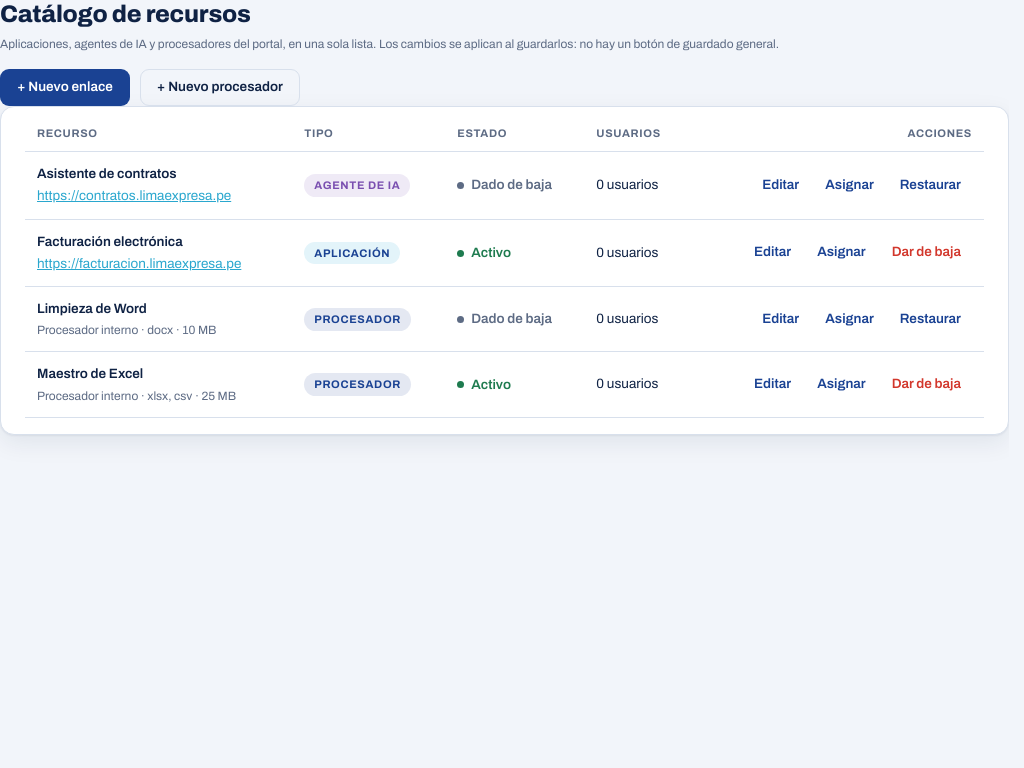
it: <CatalogoAdmin /> › edita un enlace contra su propia API, con la fila ya cargada
Click the button with aria-label "editar facturación electrónica". click: (773, 253)
box: [743,234,802,271]
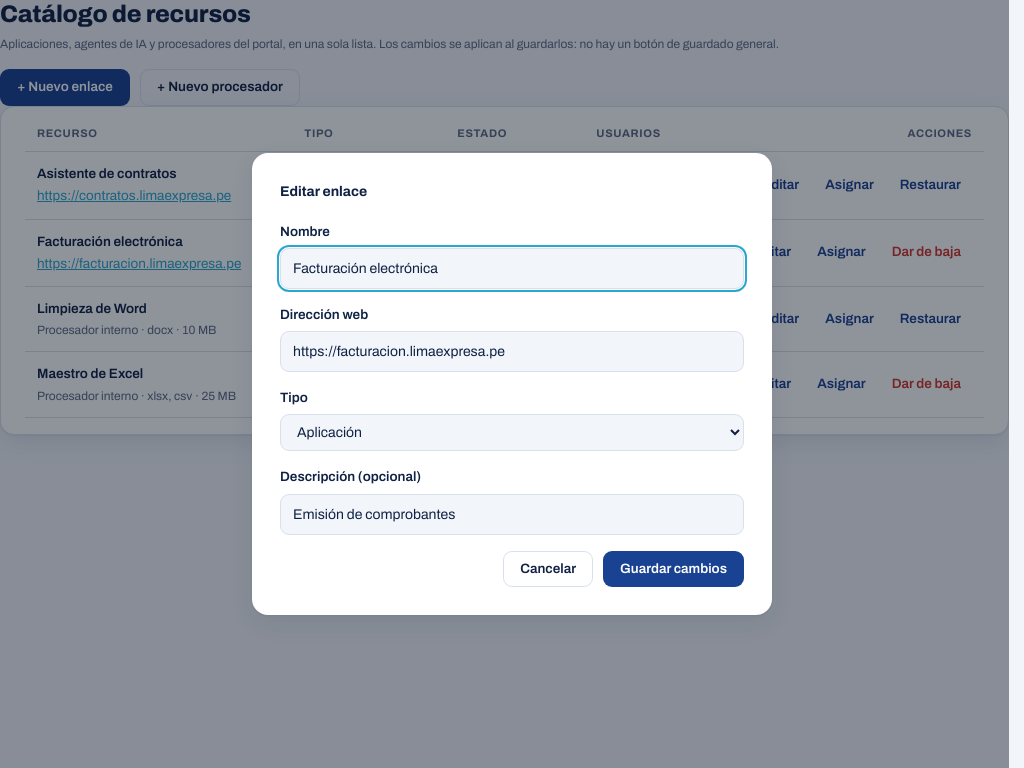
Expected: the field labelled "Nombre" holds "Facturación electrónica"
Replace the text in the field labelled "Nombre" with "Facturación". click: (512, 268)
box: [280,248,744,289]
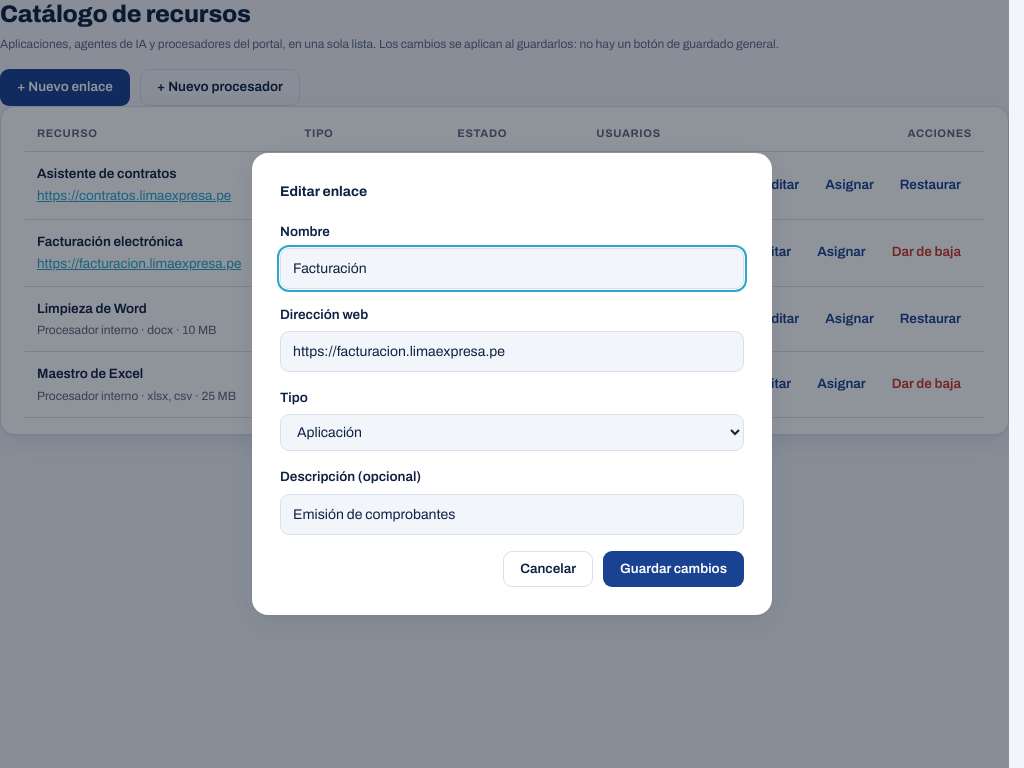
Click the button "Guardar cambios". click: (674, 569)
box: [603,551,744,588]
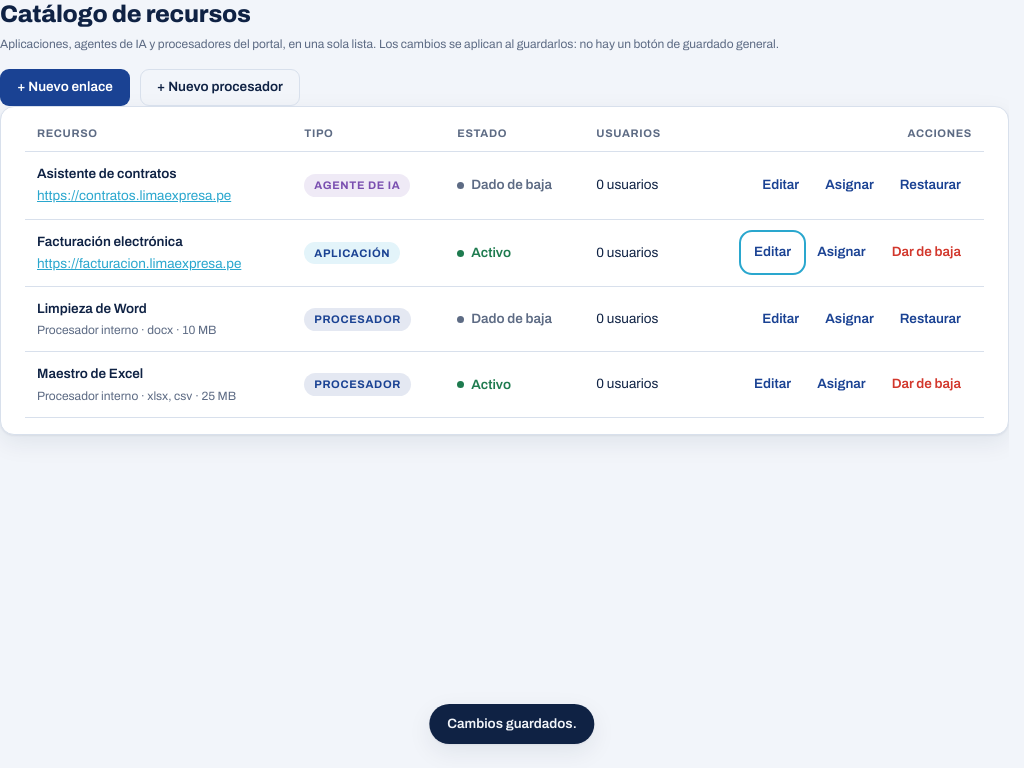
Expected: the text "Cambios guardados." is shown, [429,704,595,744]
